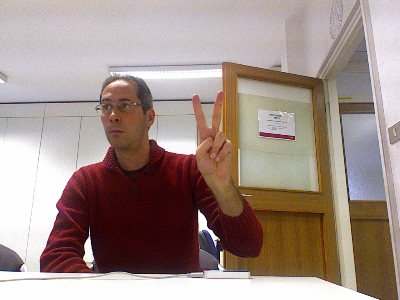剪刀: (190, 89, 235, 178)
